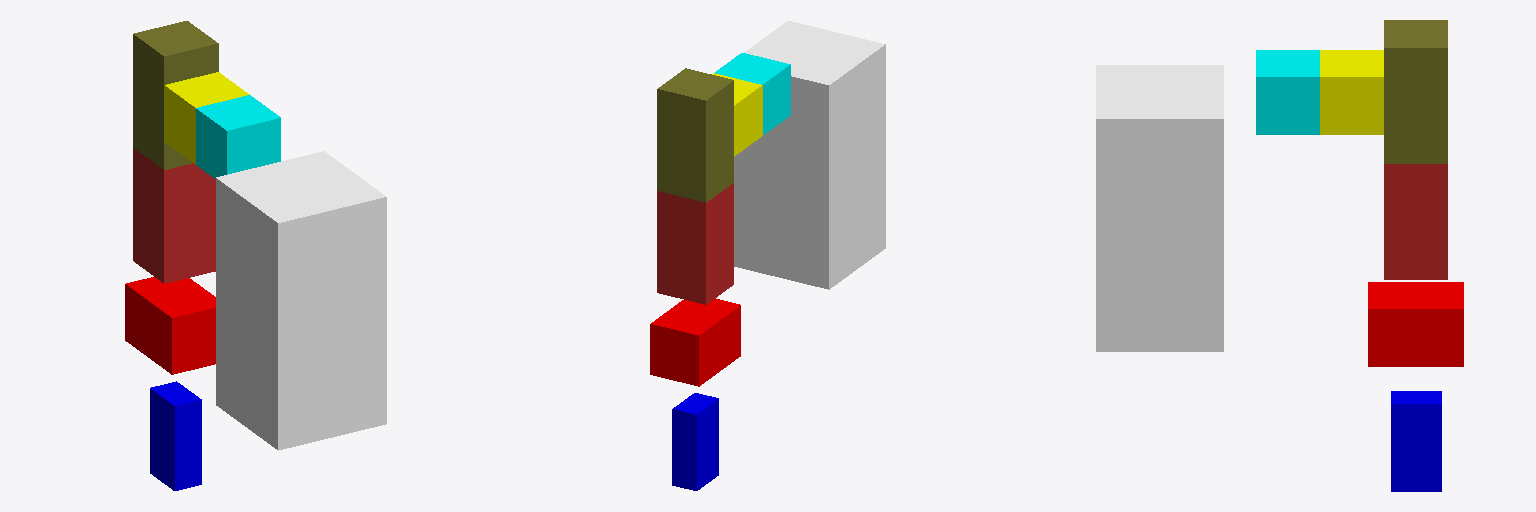
robot.urdf — robot:
<robot name="robot">
  <link name="root">
    <inertial>
      <origin xyz="0 0 0.5" rpy="0 0 0"/>
      <mass value="1"/>
      <inertia ixx="100"  ixy="0"  ixz="0" iyy="100" iyz="0" izz="100" />
    </inertial>
    <visual>
      <origin xyz="0.0 0.0 0.0" rpy="0.0 0.0 0.0" />
      <geometry>
        <box size="0.2 0.2 0.4" />
      </geometry>
      <material name="Cyan">
        <color rgba="1.0 1.0 1.0 1.0"/>
      </material>
    </visual>
    <collision>
      <origin xyz="0 0 0" rpy="0 0 0"/>
      <geometry>
        <cylinder radius="1" length="0.5"/>
      </geometry>
    </collision>
  </link>
  <link name="shoulder1">
    <visual>
      <origin xyz="0.0 0.0 0.0" rpy="0.0 0.0 0.0" />
      <geometry>
        <box size="0.1 0.1 0.1" />
      </geometry>
      <material name="Cyan">
        <color rgba="0 1.0 1.0 1.0"/>
      </material>
    </visual>
  </link>
  <link name="shoulder2">
    <visual>
      <origin xyz="0.0 0.0 0.0" rpy="0.0 0.0 0.0" />
      <geometry>
        <box size="0.1 0.1 0.1" />
      </geometry>
      <material name="Cyan">
        <color rgba="1.0 1.0 0.0 1.0"/>
      </material>
    </visual>
  </link>
  <link name="shoulder3">
    <visual>
      <origin xyz="0.0 0.0 0.0" rpy="0.0 0.0 0.0" />
      <geometry>
        <box size="0.1 0.1 0.2" />
      </geometry>
      <material name="Cyan">
        <color rgba="0.5 0.5 0.2 1.0"/>
      </material>
    </visual>
  </link>
  <link name="elbow1">
    <visual>
      <origin xyz="0.0 0.0 0.0" rpy="0.0 0.0 0.0" />
      <geometry>
        <box size="0.1 0.1 0.2" />
      </geometry>
      <material name="Cyan">
        <color rgba="0.8 0.2 0.2 1.0"/>
      </material>
    </visual>
  </link>
  <link name="wrist1">
    <visual>
      <origin xyz="0.0 0.0 0.0" rpy="0.0 0.0 0.0" />
      <geometry>
        <box size="0.1 0.15 0.1" />
      </geometry>
      <material name="Cyan">
        <color rgba="1.0 0.0 0.0 1.0"/>
      </material>
    </visual>
  </link>
  <joint name="shoulder_yaw" type="revolute">
    <origin xyz="0.0 0.2 0.2" />
    <parent link="root" />
    <child link="shoulder1" />
    <axis xyz="0 0 1" />
    <limit lower="-1" upper="1.0" effort="0" velocity="1.0"/>
  </joint>
  <link name="wrist2">
    <visual>
      <origin xyz="0.0 0.0 0.0" rpy="0.0 0.0 0.0" />
      <geometry>
        <box size="0.05 0.08 0.15" />
      </geometry>
      <material name="Cyan">
        <color rgba="0.0 0.0 1.0 1.0"/>
      </material>
    </visual>
  </link>
  <joint name="shoulder_pitch" type="revolute">
    <origin xyz="0.0 0.1 0.0" />
    <parent link="shoulder1" />
    <child link="shoulder2" />
    <axis xyz="0 1 0" />
    <limit lower="-1" upper="1.0" effort="0" velocity="1.0"/>
  </joint>
  <joint name="shoulder_roll" type="revolute">
    <origin xyz="0.0 0.1 0.0" />
    <parent link="shoulder2" />
    <child link="shoulder3" />
    <axis xyz="1 0 0" />
    <limit lower="-2" upper="1.0" effort="0" velocity="1.0"/>
  </joint>
  <joint name="elbow_pitch" type="revolute">
    <origin xyz="0.0 0.0 -0.2" />
    <parent link="shoulder3" />
    <child link="elbow1" />
    <axis xyz="0 1 0" />
    <limit lower="-2" upper="1.0" effort="0" velocity="1.0"/>
  </joint>
  <joint name="wrist_yaw" type="revolute">
    <origin xyz="0.0 0.0 -0.2" />
    <parent link="elbow1" />
    <child link="wrist1" />
    <axis xyz="0 0 1" />
    <limit lower="-2" upper="1.0" effort="0" velocity="1.0"/>
  </joint>
  <joint name="wrist_pitch" type="revolute">
    <origin xyz="0.0 0.0 -0.2" />
    <parent link="wrist1" />
    <child link="wrist2" />
    <axis xyz="0 1 0" />
    <limit lower="-2" upper="1.0" effort="0" velocity="1.0"/>
  </joint>
</robot>

--- Render facts (derived) ---
The picture shows the robot from 3 angles, left to right: view 1: azimuth 30°, elevation 25°; view 2: azimuth 150°, elevation 25°; view 3: azimuth 270°, elevation 25°; orthographic projection.
Model robot with 7 links and 6 joints (6 revolute), rooted at root, posed all joints at 0.
Visible links, largest first — view 1: root, elbow1, wrist1, shoulder3, shoulder1, wrist2, shoulder2; view 2: root, shoulder3, elbow1, wrist1, wrist2, shoulder1, shoulder2; view 3: root, shoulder3, wrist1, elbow1, shoulder1, shoulder2, wrist2.
Boxes of the visible links, x1,y1,x2,y2 form: root: (216,151,386,450); elbow1: (133,148,215,283); wrist1: (125,277,215,374); shoulder3: (133,21,218,169); shoulder1: (196,95,280,178); wrist2: (150,381,201,490); shoulder2: (164,72,249,164); root: (734,21,885,289); shoulder3: (657,68,733,202); elbow1: (657,183,733,304); wrist1: (650,298,740,386); wrist2: (672,393,718,490); shoulder1: (715,53,790,134); shoulder2: (712,73,762,156); root: (1096,65,1223,351); shoulder3: (1384,20,1447,163); wrist1: (1368,282,1463,366); elbow1: (1384,164,1447,279); shoulder1: (1256,50,1319,134); shoulder2: (1320,50,1383,134); wrist2: (1391,391,1441,491).
Bounding box of the posed robot: 0.2 × 0.575 × 0.775 m (x, y, z).
Geometry: primitives only (box / cylinder / sphere), no mesh files.